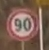limite 90: (5, 7, 40, 41)
